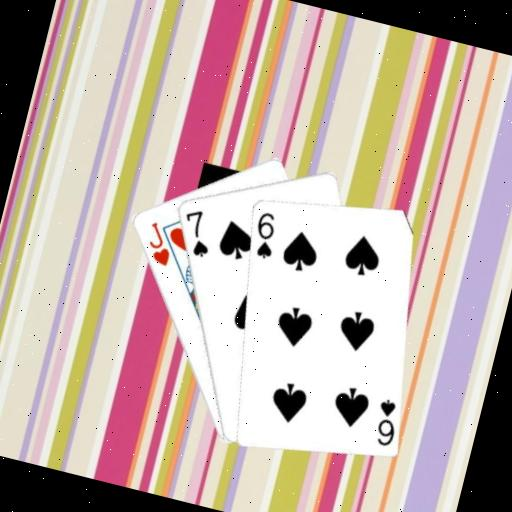6S: (246, 207, 283, 262), (367, 394, 404, 449)
7S: (173, 204, 219, 260)
JH: (138, 217, 179, 269)
